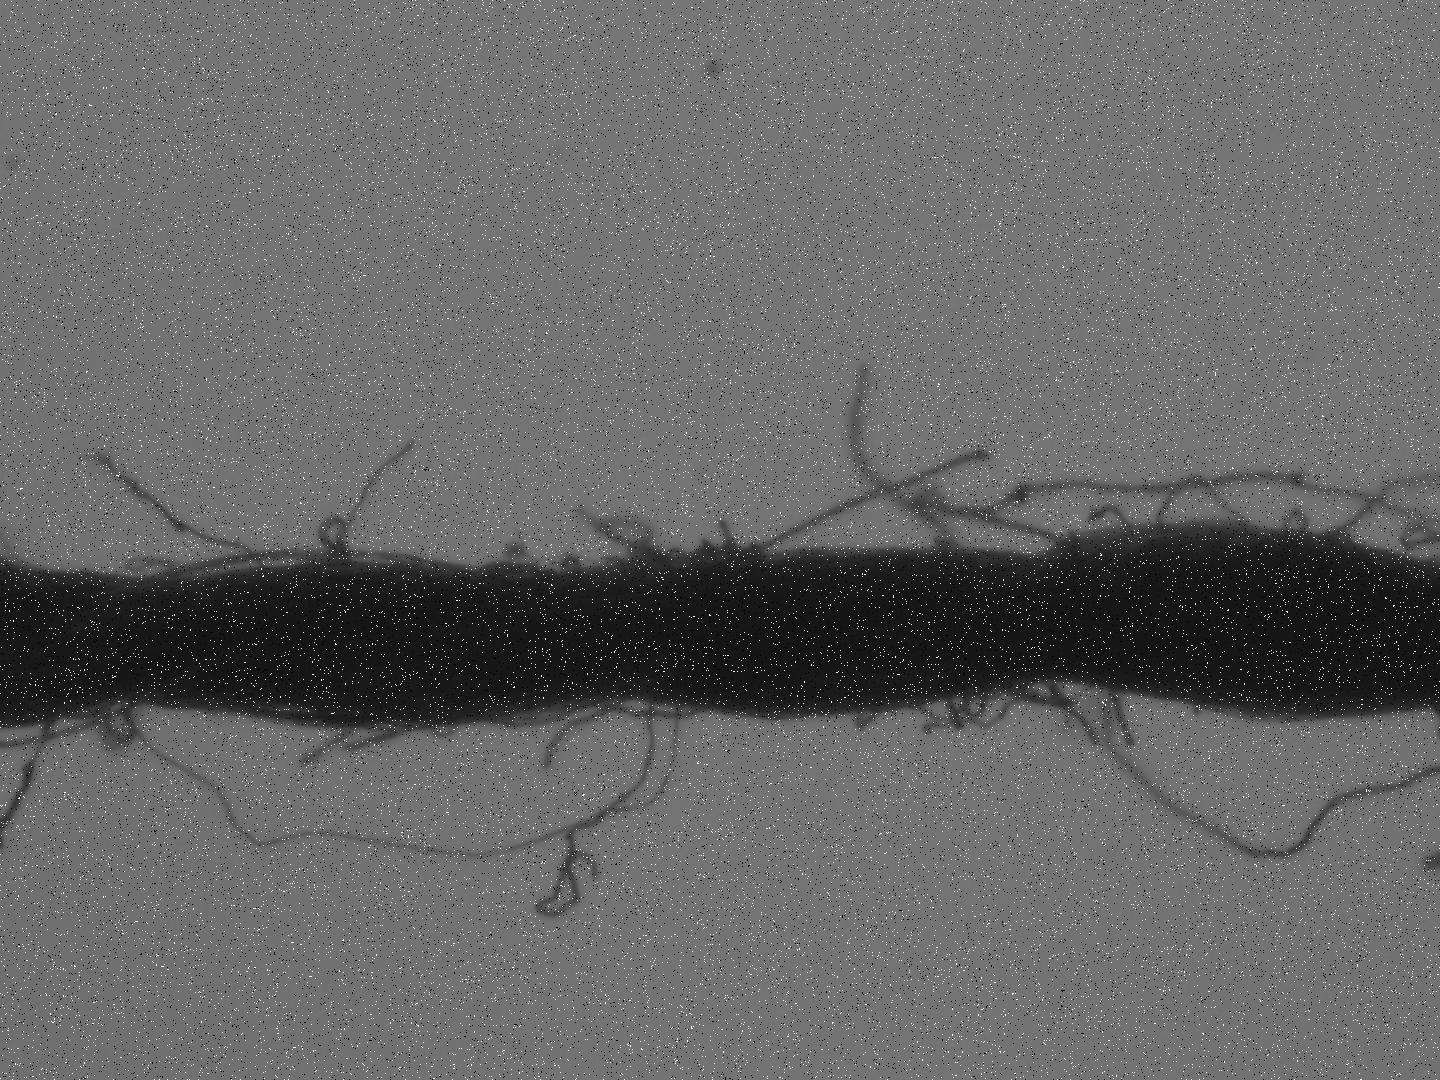loop_fiber: (127, 703, 676, 860), (162, 550, 443, 580), (1161, 474, 1252, 531), (957, 680, 1041, 726), (87, 695, 135, 750), (497, 700, 584, 729), (468, 557, 557, 581), (605, 701, 706, 722), (914, 697, 974, 719), (65, 697, 115, 723), (946, 690, 985, 722), (1284, 508, 1312, 539)
protruding_fiber: (749, 450, 986, 552), (91, 446, 264, 571), (850, 364, 962, 542), (328, 433, 414, 576), (543, 715, 607, 771), (299, 724, 363, 766), (1116, 693, 1141, 750)
